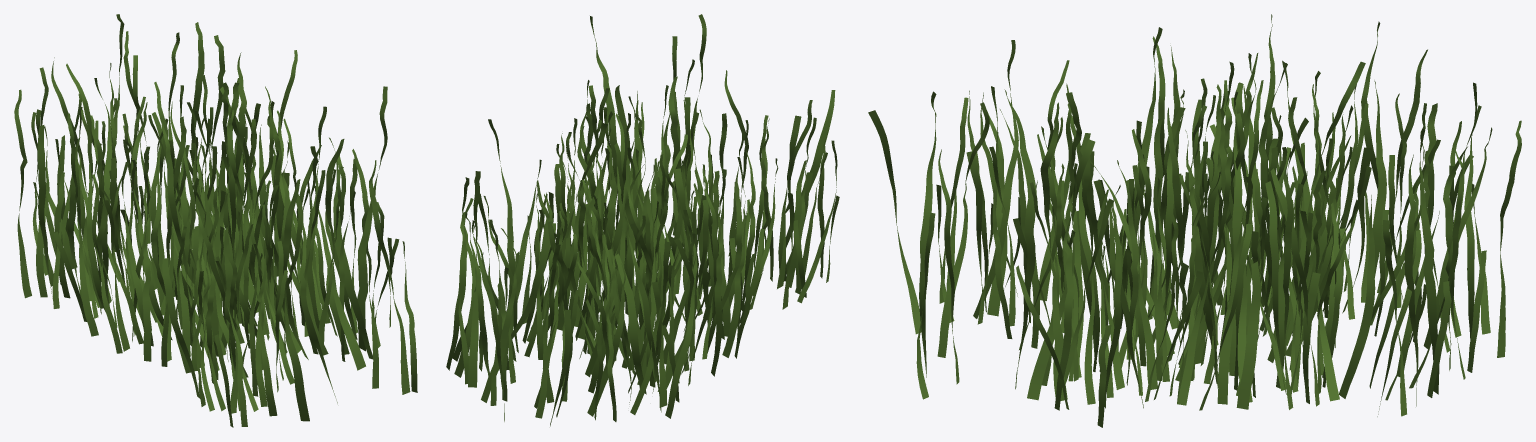
The model's file is plant_swamp_kelp_long_A_dense.fbx.
3 renders of one model, left to right at view 1: azimuth 30°, elevation 25°; view 2: azimuth 150°, elevation 25°; view 3: azimuth 270°, elevation 25°, orthographic. The views are drawn at different scales.
Parts seen in each view (by area): view 1: plant_swamp_kelp_long_A_dense; view 2: plant_swamp_kelp_long_A_dense; view 3: plant_swamp_kelp_long_A_dense.
Boxes of the visible parts, left/top/right/bottom form: plant_swamp_kelp_long_A_dense: left=14, top=14, right=417, bottom=427; plant_swamp_kelp_long_A_dense: left=446, top=14, right=839, bottom=426; plant_swamp_kelp_long_A_dense: left=868, top=14, right=1521, bottom=427.
Bounding box in the file's own units: 443 × 419 × 793.
